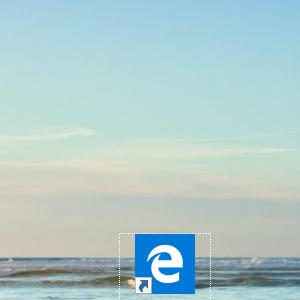edge: (135, 234, 195, 294)
